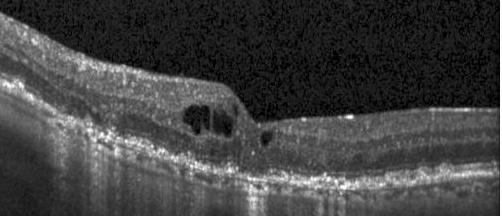intraretinal_cyst: (183, 105, 210, 134), (213, 111, 233, 138), (261, 131, 273, 147), (233, 106, 238, 115)
subretinal_hyperreflective_material: (67, 118, 459, 189)
